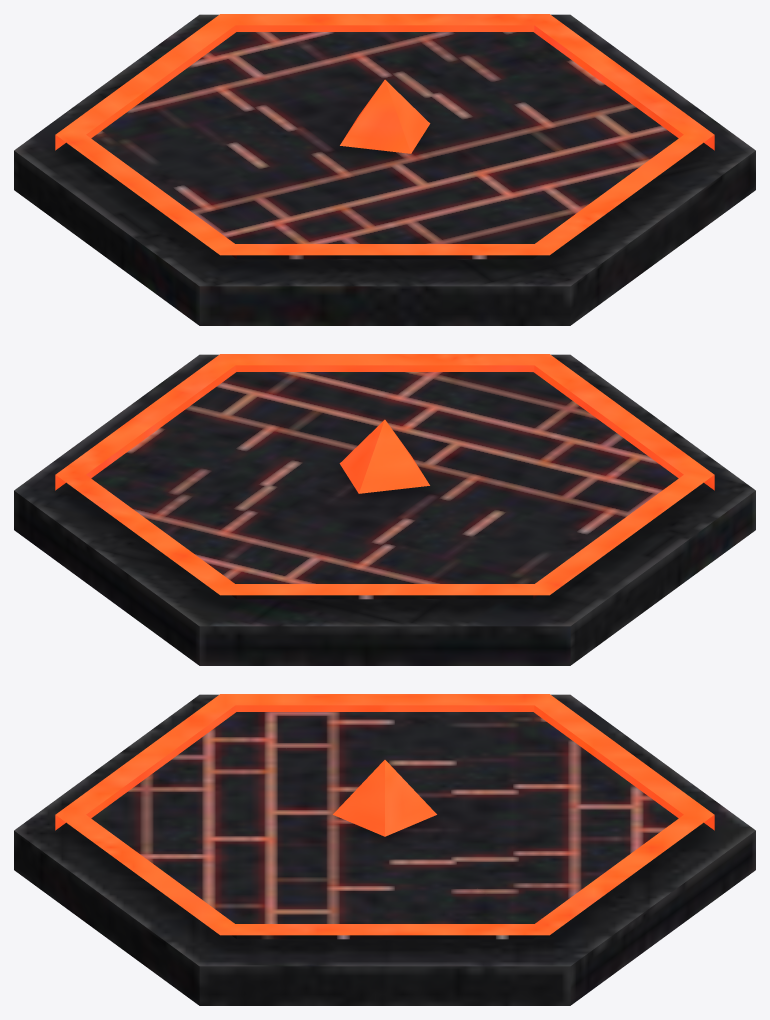
File: pad_e.glb
3 renders of one model, top to bottom at view 1: azimuth 30°, elevation 25°; view 2: azimuth 150°, elevation 25°; view 3: azimuth 270°, elevation 25°, orthographic.
Parts seen in each view (by area): view 1: pad_e; view 2: pad_e; view 3: pad_e.
Boxes of the visible parts, left/top/right/bottom form: pad_e: left=14, top=14, right=755, bottom=325; pad_e: left=14, top=354, right=755, bottom=665; pad_e: left=14, top=694, right=755, bottom=1005.
Bounding box in the file's own units: 1.47 × 0.28 × 1.7.
Materials: 1 (1 with a texture image).
